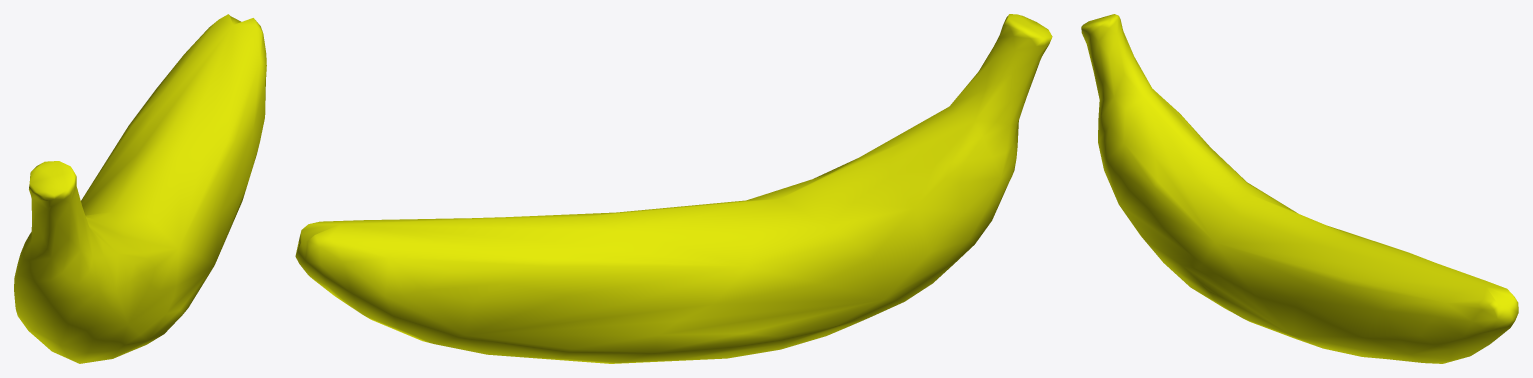
Rendered from Banana_good.fbx.
3 views of the same model, side by side, from view 1: azimuth 30°, elevation 25°; view 2: azimuth 150°, elevation 25°; view 3: azimuth 270°, elevation 25° (orthographic). The views are drawn at different scales.
Visible parts, largest first — view 1: Icosphere_00_000; view 2: Icosphere_00_000; view 3: Icosphere_00_000.
Part boxes in pixels (bbox=[...]): Icosphere_00_000: bbox=[14, 14, 266, 363]; Icosphere_00_000: bbox=[295, 14, 1052, 363]; Icosphere_00_000: bbox=[1081, 14, 1518, 363].
Size of the model in its own units: 1.62 by 0.9411 by 1.58.
